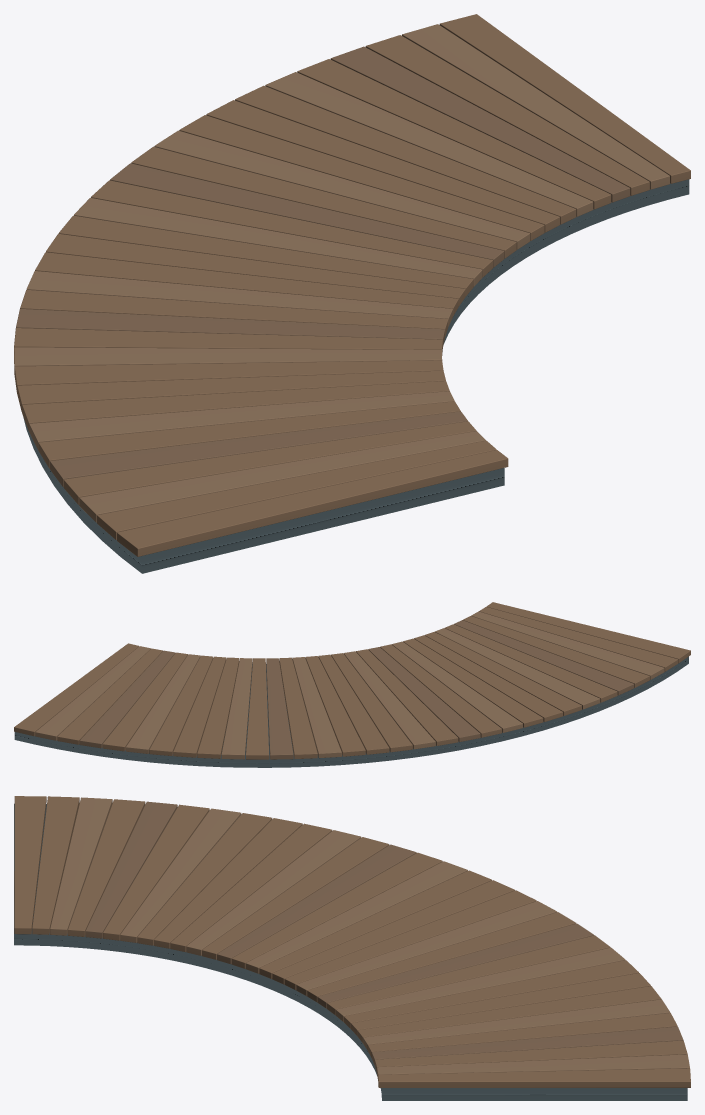
File: city_boardwalk_02.glb
3 renders of one model, top to bottom at view 1: azimuth 30°, elevation 25°; view 2: azimuth 150°, elevation 25°; view 3: azimuth 270°, elevation 25°, orthographic. The views are drawn at different scales.
Visible parts, largest first — view 1: CityBoardwalk02_Mesh; view 2: CityBoardwalk02_Mesh; view 3: CityBoardwalk02_Mesh.
Part boxes in pixels (x1,y1,x2,y2): CityBoardwalk02_Mesh: (14, 14, 690, 573); CityBoardwalk02_Mesh: (14, 602, 690, 767); CityBoardwalk02_Mesh: (14, 796, 690, 1100).
Bounding box in the file's own units: 7.8 × 0.24 × 7.8.
